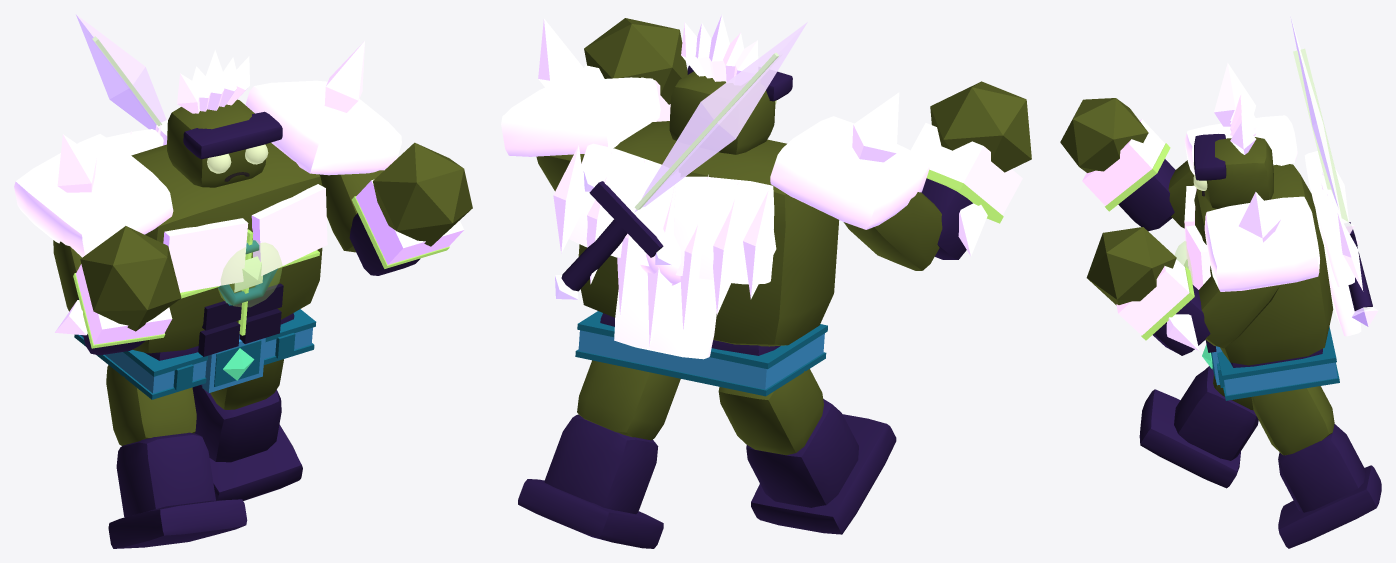
File: crystal_alt1.glb
3 views of the same model, side by side, from view 1: azimuth 30°, elevation 25°; view 2: azimuth 150°, elevation 25°; view 3: azimuth 270°, elevation 25° (orthographic). The views are drawn at different scales.
Size of the model in its own units: 2.24 by 2.87 by 1.85.
